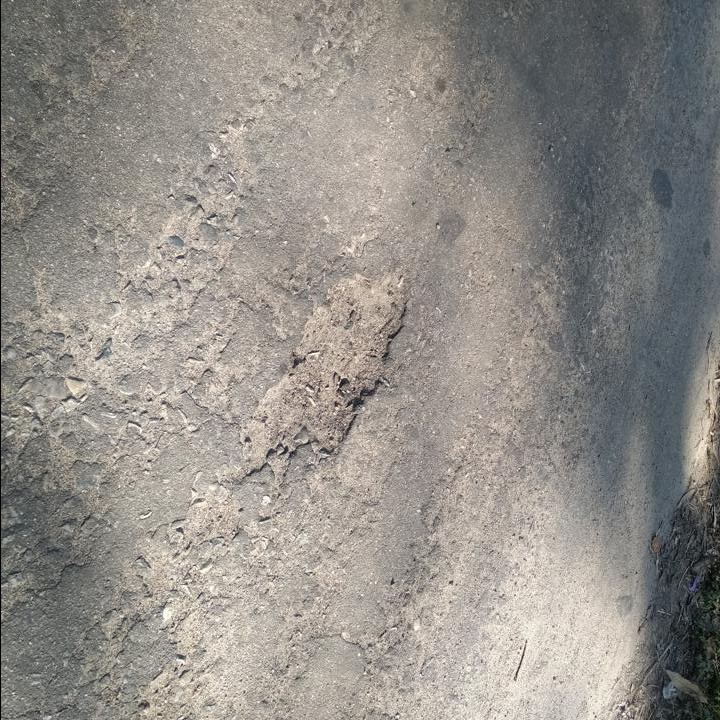pothole: (237, 264, 414, 483)
